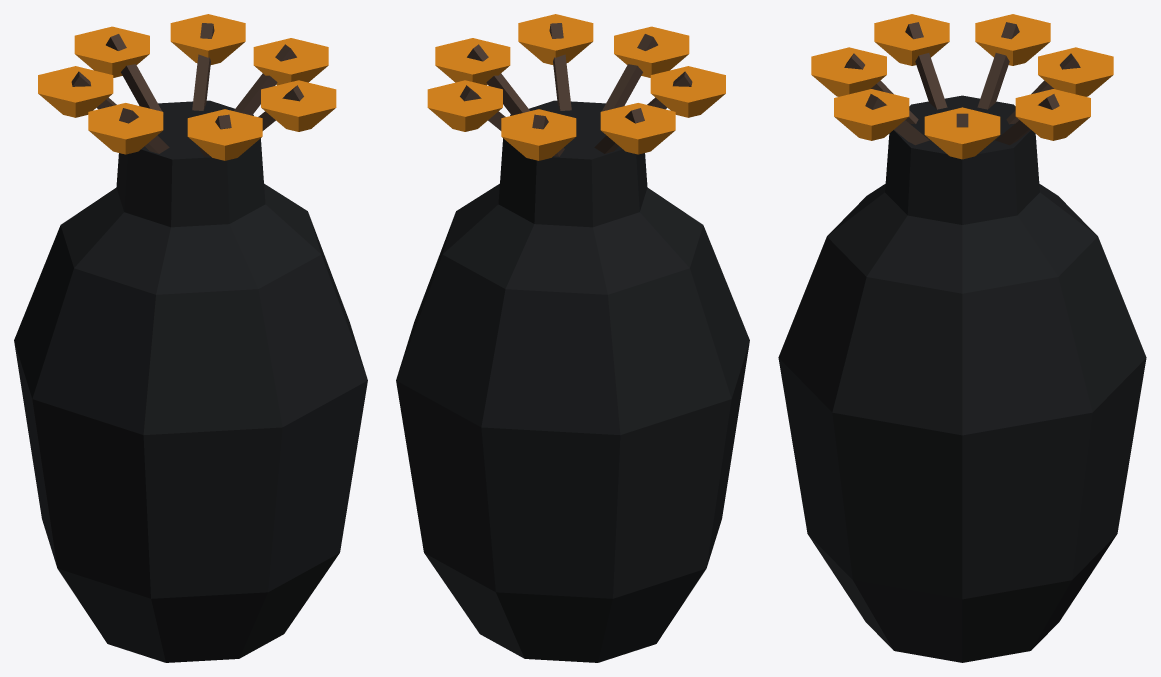
Rendered from marigold_vase.glb.
3 views of the same model, side by side, from view 1: azimuth 30°, elevation 25°; view 2: azimuth 150°, elevation 25°; view 3: azimuth 270°, elevation 25° (orthographic).
Parts seen in each view (by area): view 1: Vasija, Flor.005, Flor.006, Flor.004, Flor.003, Flor.001, Flor.002, Flor, Tallo.002, Tallo.001, Tallo; view 2: Vasija, Flor.002, Flor.001, Flor.003, Flor.004, Flor.006, Flor.005, Flor, Tallo.005, Tallo.006, Tallo; view 3: Vasija, Flor, Flor.001, Flor.006, Flor.002, Flor.005, Flor.003, Flor.004, Tallo.003, Tallo.004, Tallo.001, Tallo.006.
Part boxes in pixels (x1,y1,x2,y2): Vasija: (14,100,367,662); Flor.005: (187,109,262,160); Flor.006: (261,80,336,131); Flor.004: (88,103,163,154); Flor.003: (38,66,113,117); Flor.001: (170,14,245,64); Flor.002: (74,26,149,77); Flor: (253,38,328,85); Tallo.002: (106,34,162,111); Tallo.001: (192,23,214,110); Tallo: (234,44,296,115); Vasija: (396,100,749,662); Flor.002: (501,109,576,160); Flor.001: (427,80,502,131); Flor.003: (600,103,675,154); Flor.004: (650,66,725,117); Flor.006: (518,14,593,64); Flor.005: (614,26,689,77); Flor: (435,38,510,85); Tallo.005: (601,34,657,111); Tallo.006: (549,23,571,110); Tallo: (467,44,529,115); Vasija: (778,95,1146,662); Flor: (924,107,1000,159); Flor.001: (1015,89,1090,140); Flor.006: (834,89,909,140); Flor.002: (1038,47,1113,96); Flor.005: (811,47,886,96); Flor.003: (975,14,1050,65); Flor.004: (874,14,949,65); Tallo.003: (977,22,1019,109); Tallo.004: (905,22,947,109); Tallo.001: (995,94,1059,145); Tallo.006: (865,94,929,145).
Bounding box in the file's own units: 0.3 × 0.5 × 0.3.
